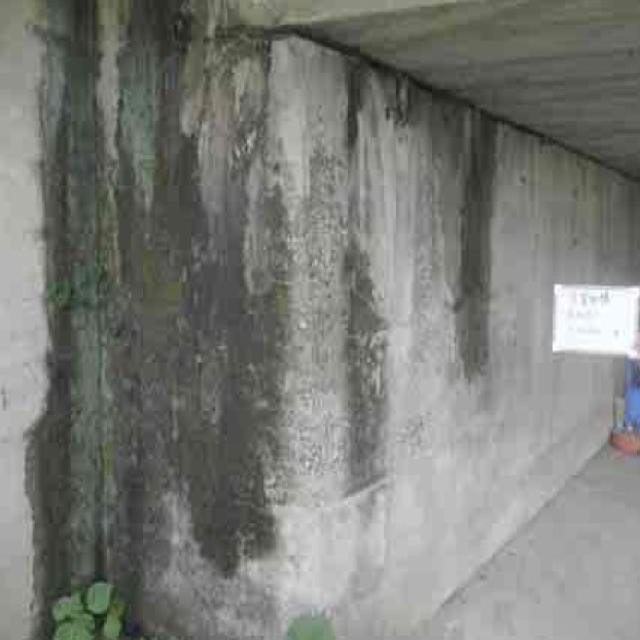leakage: (28, 3, 273, 640), (424, 87, 502, 394)
